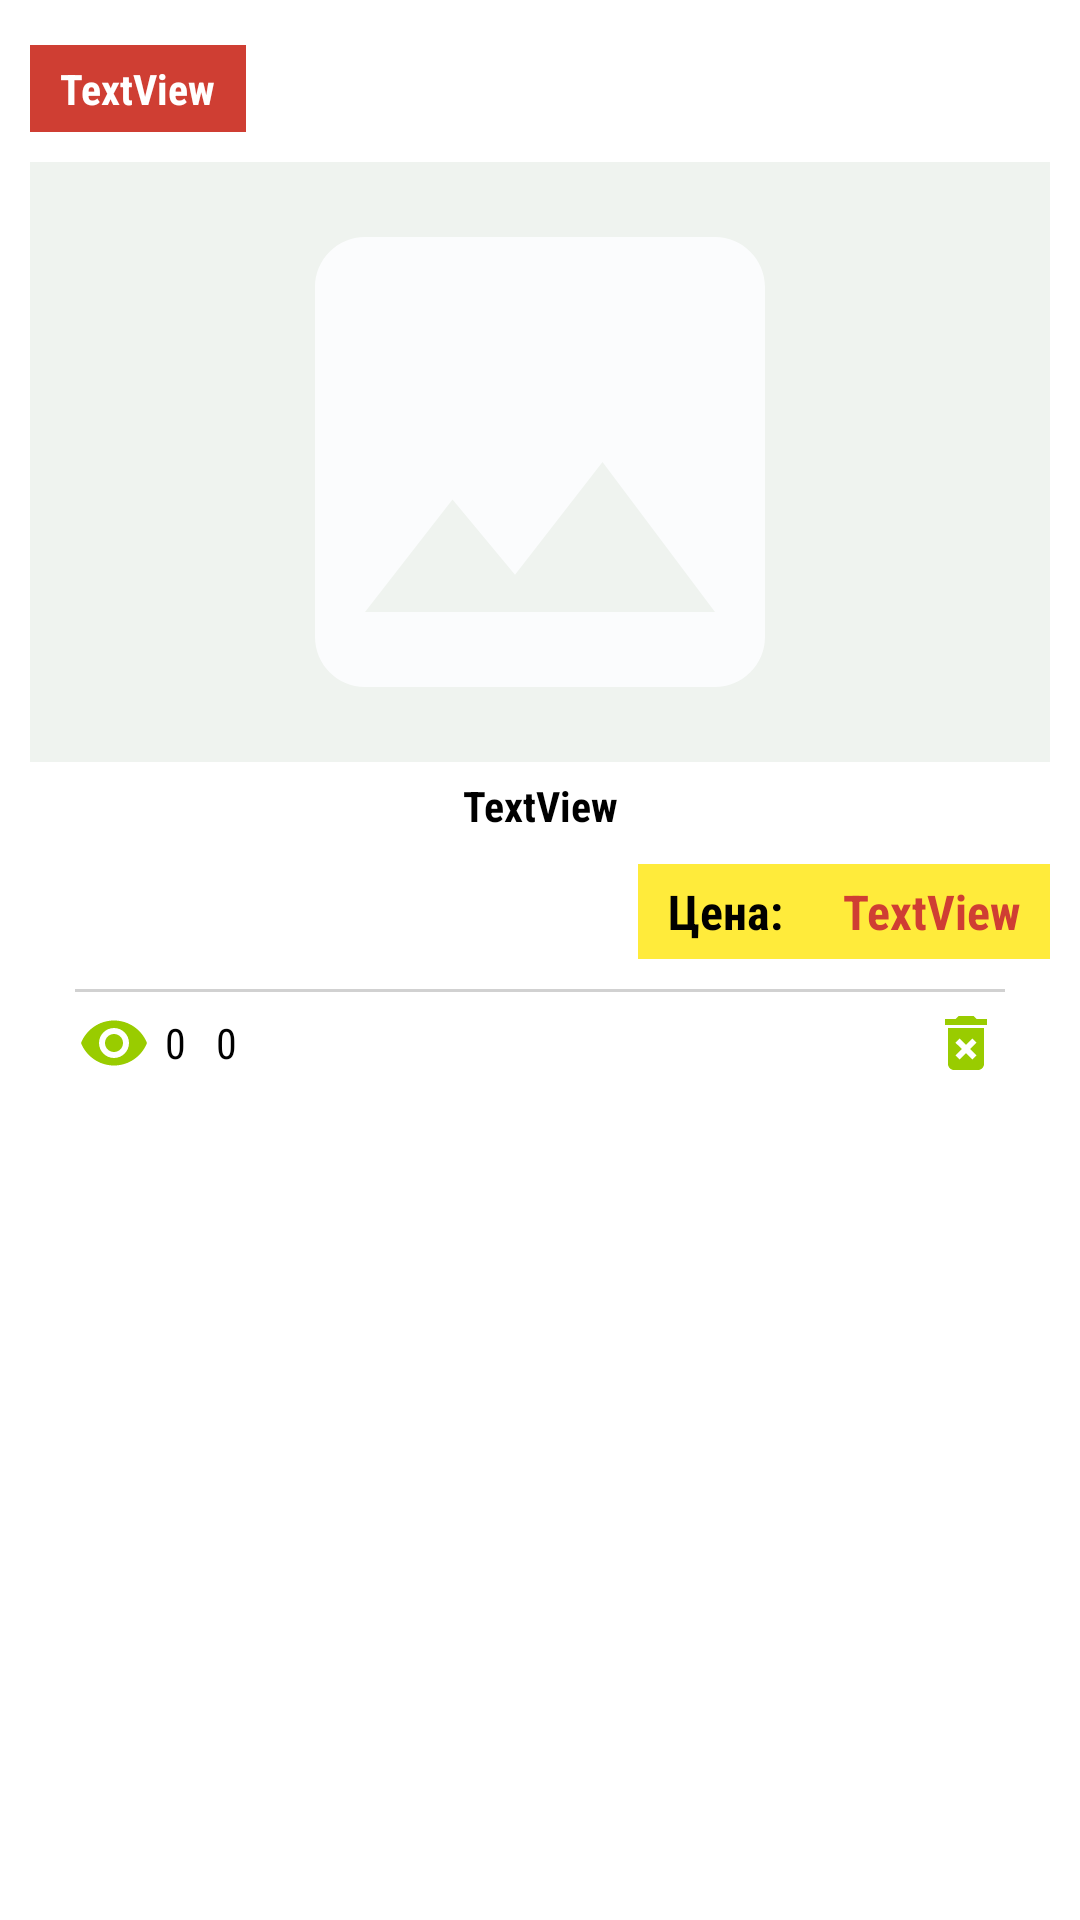

Icon click points for this 1080 x 1920 phone screenshot, format point (x, y):
delete ad: point (966, 1043)
eye: point (114, 1043)
